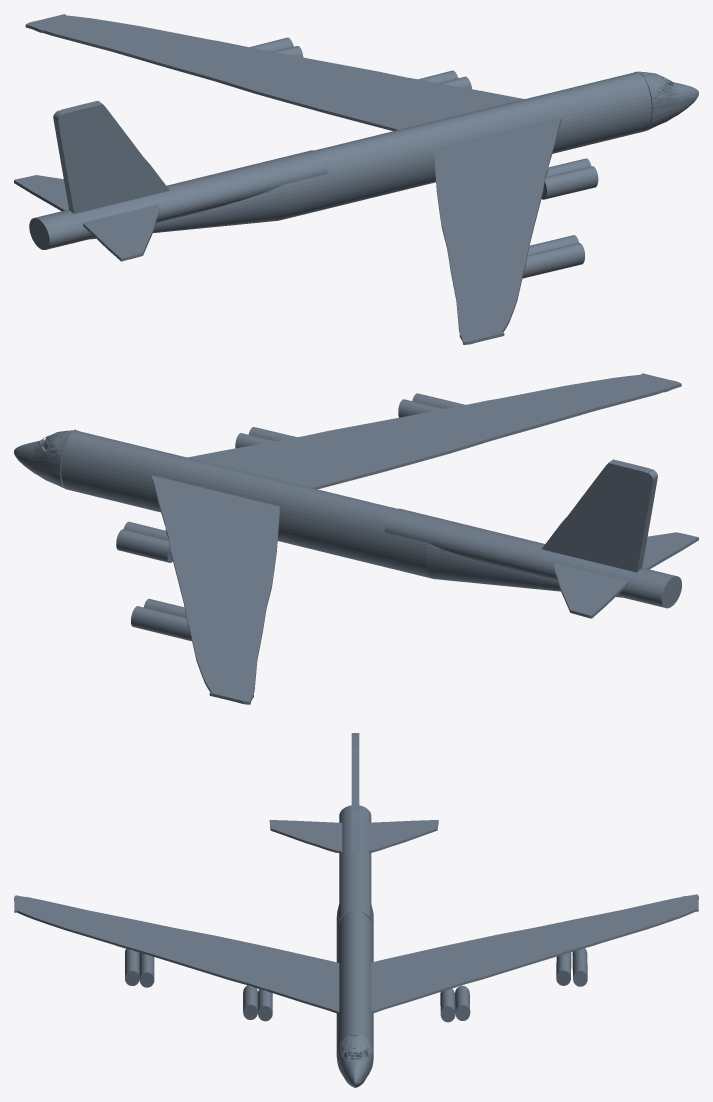
File: Amazing Allis 2.glb
The picture shows the model from 3 angles, top to bottom: view 1: azimuth 30°, elevation 25°; view 2: azimuth 150°, elevation 25°; view 3: azimuth 270°, elevation 25°; orthographic projection. The views are drawn at different scales.
Visible parts, largest first — view 1: Mesh_Mesh_head_geo.001_lambert2SG.001; view 2: Mesh_Mesh_head_geo.001_lambert2SG.001; view 3: Mesh_Mesh_head_geo.001_lambert2SG.001.
Boxes of the visible parts, x1,y1,x2,y2 form: Mesh_Mesh_head_geo.001_lambert2SG.001: (14,14,698,344); Mesh_Mesh_head_geo.001_lambert2SG.001: (14,373,698,704); Mesh_Mesh_head_geo.001_lambert2SG.001: (14,733,698,1087).
Size of the model in its own units: 242 by 55.9 by 278.
